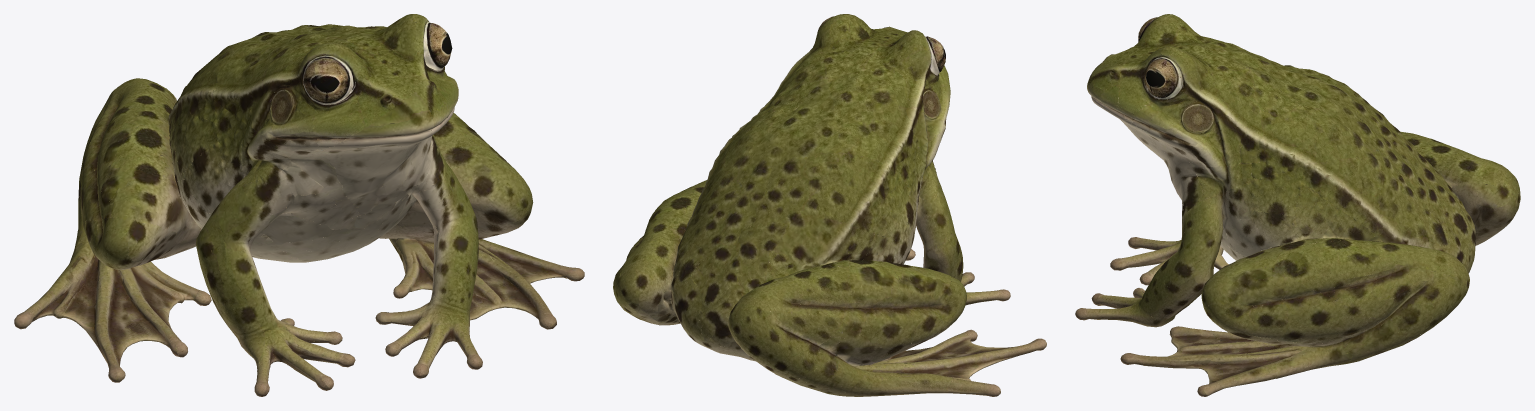
Rendered from frog.glb.
The picture shows the model from 3 angles, left to right: view 1: azimuth 30°, elevation 25°; view 2: azimuth 150°, elevation 25°; view 3: azimuth 270°, elevation 25°; orthographic projection. The views are drawn at different scales.
Parts seen in each view (by area): view 1: Mesh_0; view 2: Mesh_0; view 3: Mesh_0.
Part boxes in pixels (x1=…): Mesh_0: x1=14, y1=14, x2=584, y2=396; Mesh_0: x1=613, y1=14, x2=1046, y2=396; Mesh_0: x1=1075, y1=14, x2=1520, y2=396.
Size of the model in its own units: 0.0786 by 0.05 by 0.0739.
Materials: 1 (1 with a texture image).
